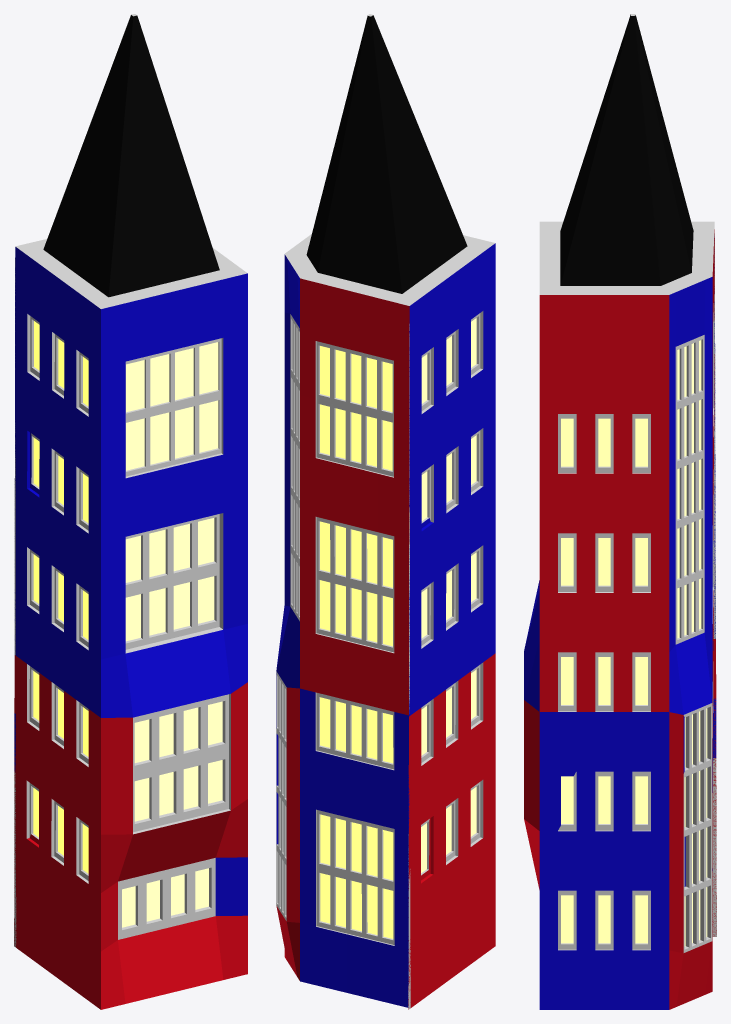
The model's file is fresh_tower.fbx.
3 views of the same model, side by side, from view 1: azimuth 30°, elevation 25°; view 2: azimuth 150°, elevation 25°; view 3: azimuth 270°, elevation 25° (orthographic). The views are drawn at different scales.
Visible parts, largest first — view 1: Vert; view 2: Vert; view 3: Vert.
Boxes of the visible parts, x1,y1,x2,y2 form: Vert: (14, 14, 247, 1009); Vert: (276, 14, 495, 1009); Vert: (524, 14, 716, 1009).
Size of the model in its own units: 202 by 1226 by 223.
